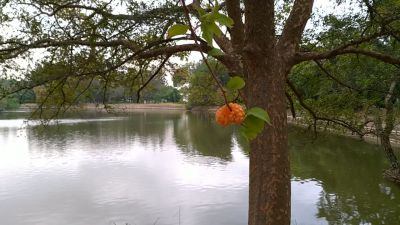eggs: (214, 102, 247, 129)
